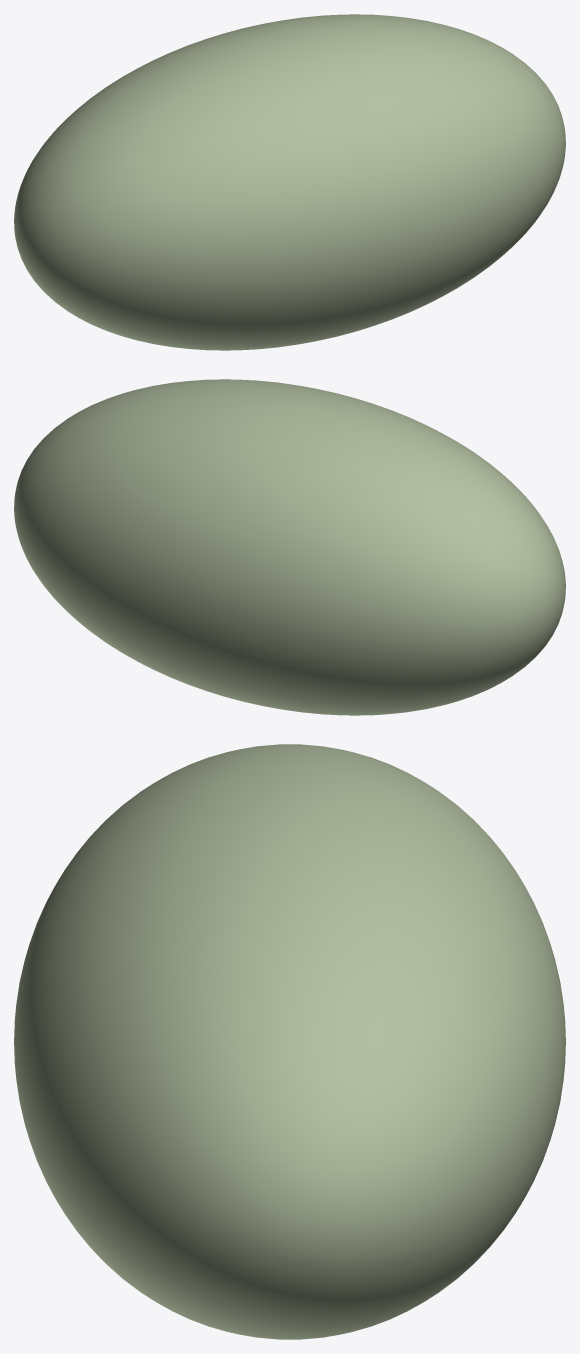
3 views of the same model, one above another, from view 1: azimuth 30°, elevation 25°; view 2: azimuth 150°, elevation 25°; view 3: azimuth 270°, elevation 25° (orthographic). The views are drawn at different scales.
Parts seen in each view (by area): view 1: 外膜; view 2: 外膜; view 3: 外膜.
Boxes of the visible parts, x1,y1,x2,y2 form: 外膜: (14,14,565,350); 外膜: (14,379,565,715); 外膜: (14,744,565,1339).
Size of the model in its own units: 2.36 by 1.22 by 1.38.
